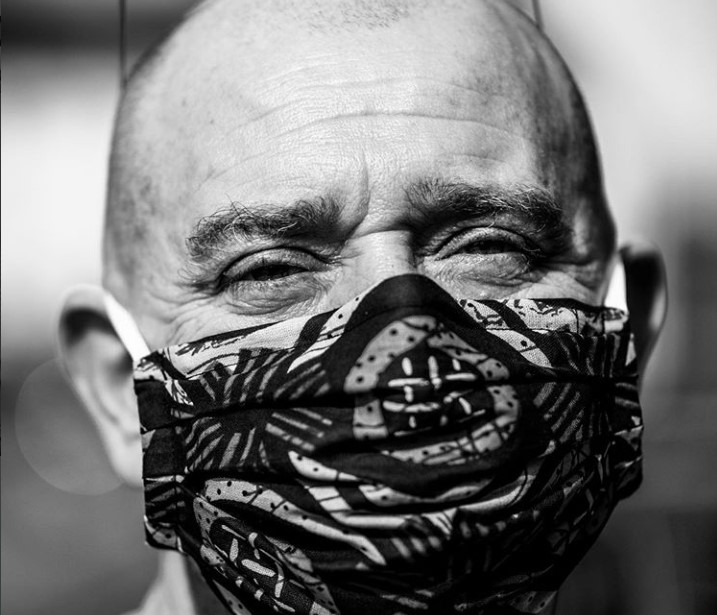face_with_mask: (50, 1, 675, 613)
